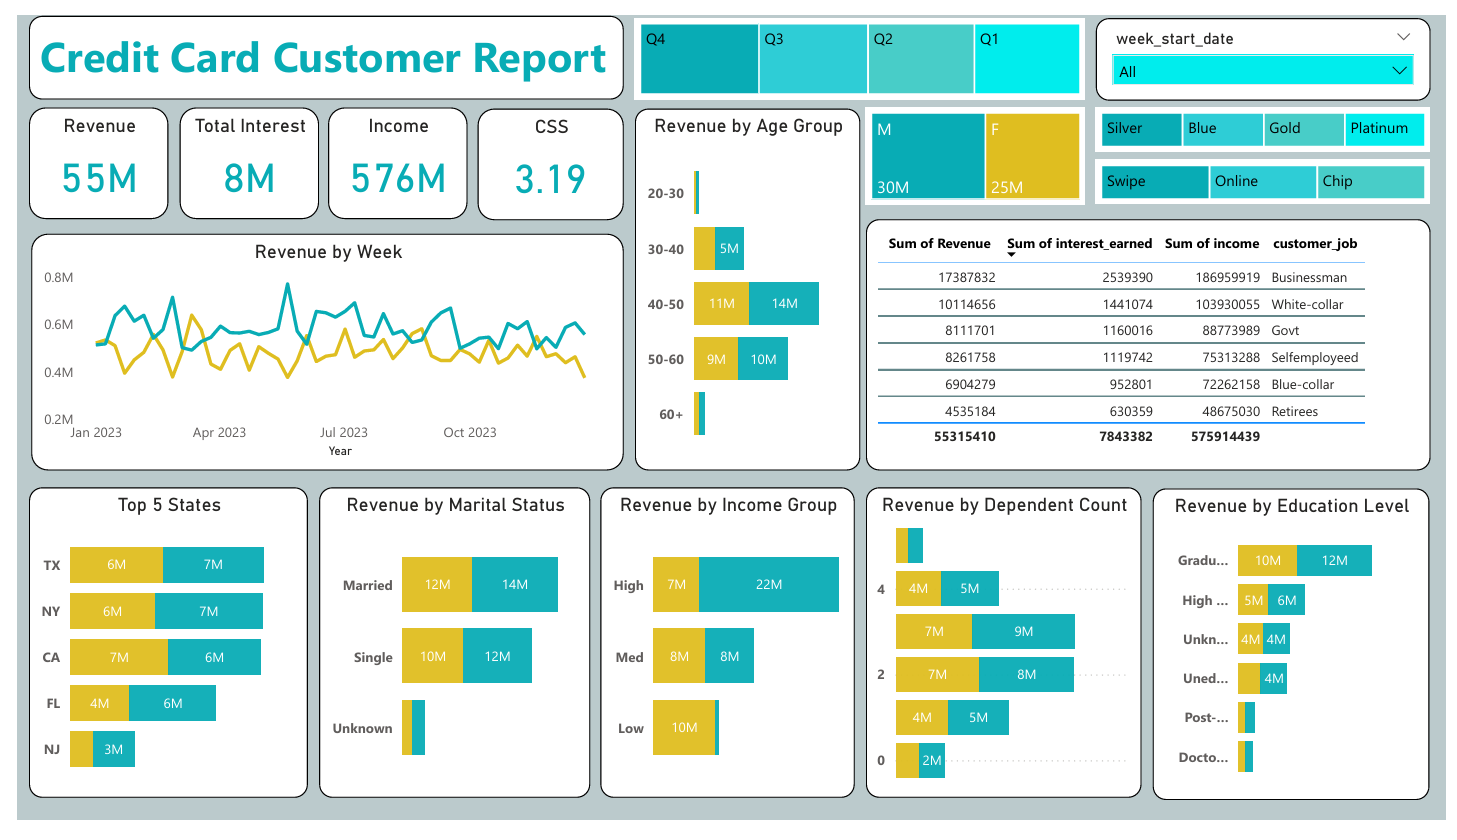

What the dashboard file says about the page in this screenshot:
{"tool":"powerbi","page":{"name":"Credit Card Customer","canvas":[1280,720],"ordinal":1},"visuals":[{"type":"textbox","box":[10,0,533.3,75],"z":0},{"type":"barChart","title":"Revenue by Income Group","fields":{"Y":["Sum(public cc_detail.Revenue)"],"Category":["public cust_detail.IncomeGroup"],"Series":["public cust_detail.gender"]},"box":[521.7,421.7,228.3,278.3],"z":1000},{"type":"tableEx","fields":{"Values":["Sum(public cc_detail.Revenue)","Sum(public cc_detail.interest_earned)","Sum(public cust_detail.income)","public cust_detail.customer_job"]},"box":[760,182.2,505.6,224.4],"z":2000},{"type":"card","title":"Revenue","fields":{"Values":["Sum(public cc_detail.Revenue)"]},"box":[10,81.7,125,100],"z":3000},{"type":"card","title":"Total Interest","fields":{"Values":["Sum(public cc_detail.interest_earned)"]},"box":[145,81.7,125,100],"z":4000},{"type":"card","title":"Income","fields":{"Values":["Sum(public cust_detail.income)"]},"box":[278.3,81.7,125,100],"z":5000},{"type":"card","title":"CSS","fields":{"Values":["Avg(public cust_detail.cust_satisfaction_score)"]},"box":[411.7,83.3,131.7,100],"z":6000},{"type":"slicer","fields":{"Values":["public cc_detail.week_start_date"]},"box":[965.6,2.2,300,73.3],"z":7000},{"type":"treemap","fields":{"Group":["public cc_detail.qtr"],"Values":["Avg(public cc_detail.client_num)"]},"box":[553.3,1.7,403.3,73.3],"z":8000},{"type":"treemap","fields":{"Group":["public cc_detail.card_category"],"Values":["Avg(public cc_detail.client_num)"]},"box":[965.6,82.2,300,40],"z":9000},{"type":"lineChart","title":"Revenue by Week","fields":{"Y":["Sum(public cc_detail.Revenue)"],"Series":["public cust_detail.gender"],"Category":["public cc_detail.week_start_date.Variation.Date Hierarchy.Year","public cc_detail.week_start_date.Variation.Date Hierarchy.Month","public cc_detail.week_start_date.Variation.Date Hierarchy.Day"]},"box":[11.7,195,531.7,211.7],"z":10000},{"type":"treemap","fields":{"Group":["public cust_detail.gender"],"Values":["Sum(public cc_detail.Revenue)"]},"box":[760,82.2,196.7,86.7],"z":11000},{"type":"barChart","title":"Revenue by Age Group","fields":{"Y":["Sum(public cc_detail.Revenue)"],"Category":["public cust_detail.AgeGroup"],"Series":["public cust_detail.gender"]},"box":[553.3,83.3,201.7,323.3],"z":12000},{"type":"barChart","title":"Revenue by Dependent Count ","fields":{"Y":["Sum(public cc_detail.Revenue)"],"Category":["public cust_detail.dependent_count"],"Series":["public cust_detail.gender"]},"box":[760,421.7,246.7,278.3],"z":13000},{"type":"barChart","title":"Revenue by Education Level","fields":{"Y":["Sum(public cc_detail.Revenue)"],"Category":["public cust_detail.education_level"],"Series":["public cust_detail.gender"]},"box":[1016.7,423.3,248.3,278.3],"z":14000},{"type":"barChart","title":"Top 5 States","fields":{"Y":["Sum(public cc_detail.Revenue)"],"Category":["public cust_detail.state_cd"],"Series":["public cust_detail.gender"]},"box":[10,421.7,250,278.3],"z":15000},{"type":"barChart","title":"Revenue by Marital Status","fields":{"Y":["Sum(public cc_detail.Revenue)"],"Category":["public cust_detail.marital_status"],"Series":["public cust_detail.gender"]},"box":[270,421.7,243.3,278.3],"z":16000},{"type":"treemap","fields":{"Group":["public cc_detail.use_chip"],"Values":["Avg(public cc_detail.client_num)"]},"box":[965.6,128.9,300,40],"z":17000}]}

Visuals, with their boxes in screenshot pixels (x1, y1, x2, y2), scaled from the page's 1280x720 canvas onto the 1457x840 screenshot:
textbox: (11,0,618,88)
"Revenue by Income Group" barChart: (594,492,854,817)
tableEx - Sum(public cc_detail.Revenue) x Sum(public cc_detail.interest_earned): (865,213,1441,474)
"Revenue" card: (11,95,154,212)
"Total Interest" card: (165,95,307,212)
"Income" card: (317,95,459,212)
"CSS" card: (469,97,619,214)
slicer - public cc_detail.week_start_date: (1099,3,1441,88)
treemap - public cc_detail.qtr x Avg(public cc_detail.client_num): (630,2,1089,88)
treemap - public cc_detail.card_category x Avg(public cc_detail.client_num): (1099,96,1441,143)
"Revenue by Week" lineChart: (13,228,619,474)
treemap - public cust_detail.gender x Sum(public cc_detail.Revenue): (865,96,1089,197)
"Revenue by Age Group" barChart: (630,97,859,474)
"Revenue by Dependent Count " barChart: (865,492,1146,817)
"Revenue by Education Level" barChart: (1157,494,1440,819)
"Top 5 States" barChart: (11,492,296,817)
"Revenue by Marital Status" barChart: (307,492,584,817)
treemap - public cc_detail.use_chip x Avg(public cc_detail.client_num): (1099,150,1441,197)
